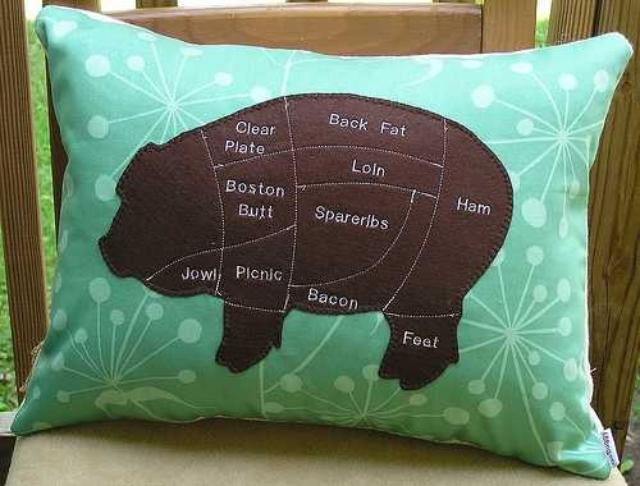pillow: (10, 4, 632, 480)
